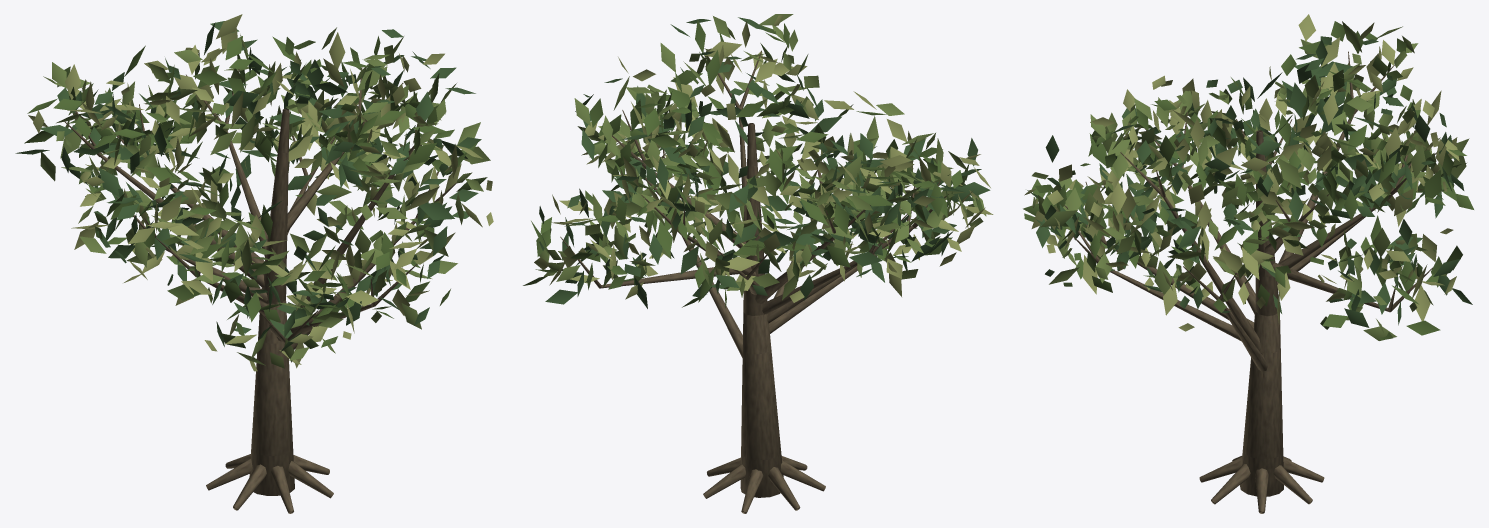
Rendered from flora.glb.
3 renders of one model, left to right at view 1: azimuth 30°, elevation 25°; view 2: azimuth 150°, elevation 25°; view 3: azimuth 270°, elevation 25°, orthographic. The views are drawn at different scales.
Visible parts, largest first — view 1: Tree__Living_leaves, Tree__Garden_bark; view 2: Tree__Living_leaves, Tree__Garden_bark; view 3: Tree__Living_leaves, Tree__Garden_bark.
Part boxes in pixels (left/top/right/bottom): Tree__Living_leaves: left=15, top=14, right=493, bottom=371; Tree__Garden_bark: left=64, top=68, right=456, bottom=513; Tree__Living_leaves: left=523, top=14, right=993, bottom=308; Tree__Garden_bark: left=560, top=50, right=948, bottom=513; Tree__Living_leaves: left=1023, top=14, right=1473, bottom=340; Tree__Garden_bark: left=1064, top=51, right=1436, bottom=513.
Size of the model in its own units: 9.1 by 9.49 by 9.41.
4 materials, 1 textured.
